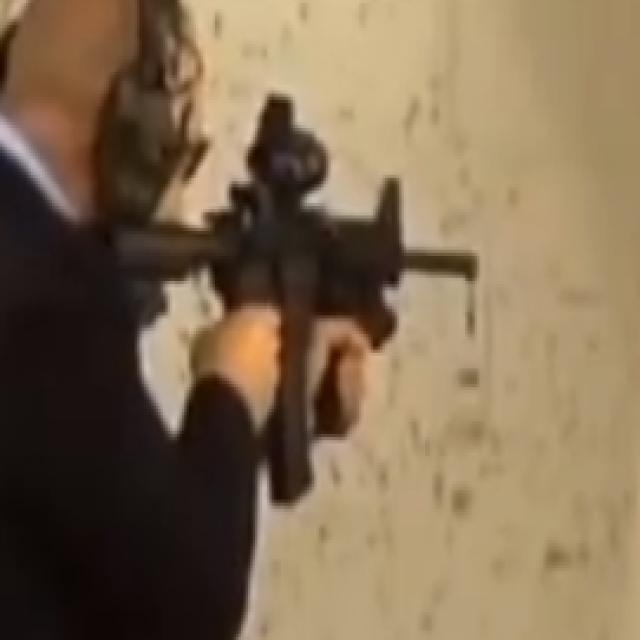RifleTel: (108, 102, 482, 508)
